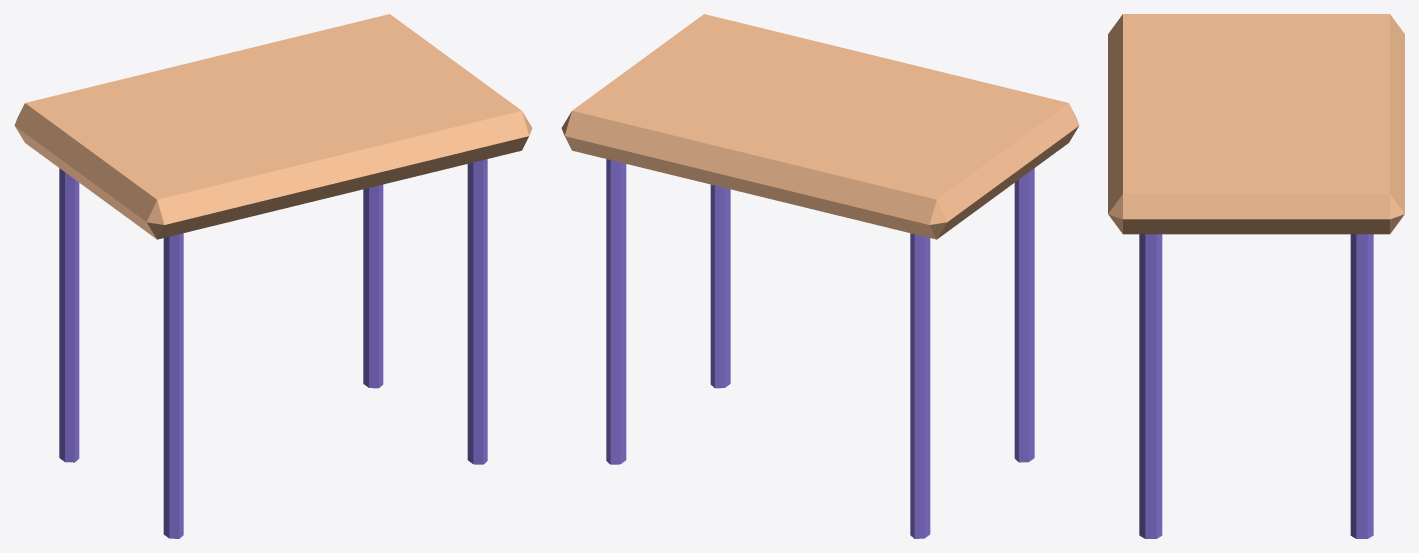
3 renders of one model, left to right at view 1: azimuth 30°, elevation 25°; view 2: azimuth 150°, elevation 25°; view 3: azimuth 270°, elevation 25°, orthographic.
Visible parts, largest first — view 1: Rounded table top, Leg.002, Leg, Leg.001, Leg.003; view 2: Rounded table top, Leg.003, Leg.001, Leg, Leg.002; view 3: Rounded table top, Leg.002, Leg.003.
Part boxes in pixels (bbox=[...]): Rounded table top: bbox=[14, 14, 532, 239]; Leg.002: bbox=[467, 159, 487, 464]; Leg: bbox=[163, 233, 183, 538]; Leg.001: bbox=[59, 168, 79, 462]; Leg.003: bbox=[363, 184, 383, 388]; Rounded table top: bbox=[561, 14, 1079, 239]; Leg.003: bbox=[606, 159, 626, 464]; Leg.001: bbox=[910, 233, 930, 538]; Leg: bbox=[1014, 168, 1034, 462]; Leg.002: bbox=[710, 184, 730, 388]; Rounded table top: bbox=[1108, 14, 1404, 234]; Leg.002: bbox=[1139, 234, 1162, 538]; Leg.003: bbox=[1350, 234, 1373, 538].
Bounding box in the file's own units: 0.792 × 0.6916 × 0.522.
Materials: 1 (1 with a texture image).
